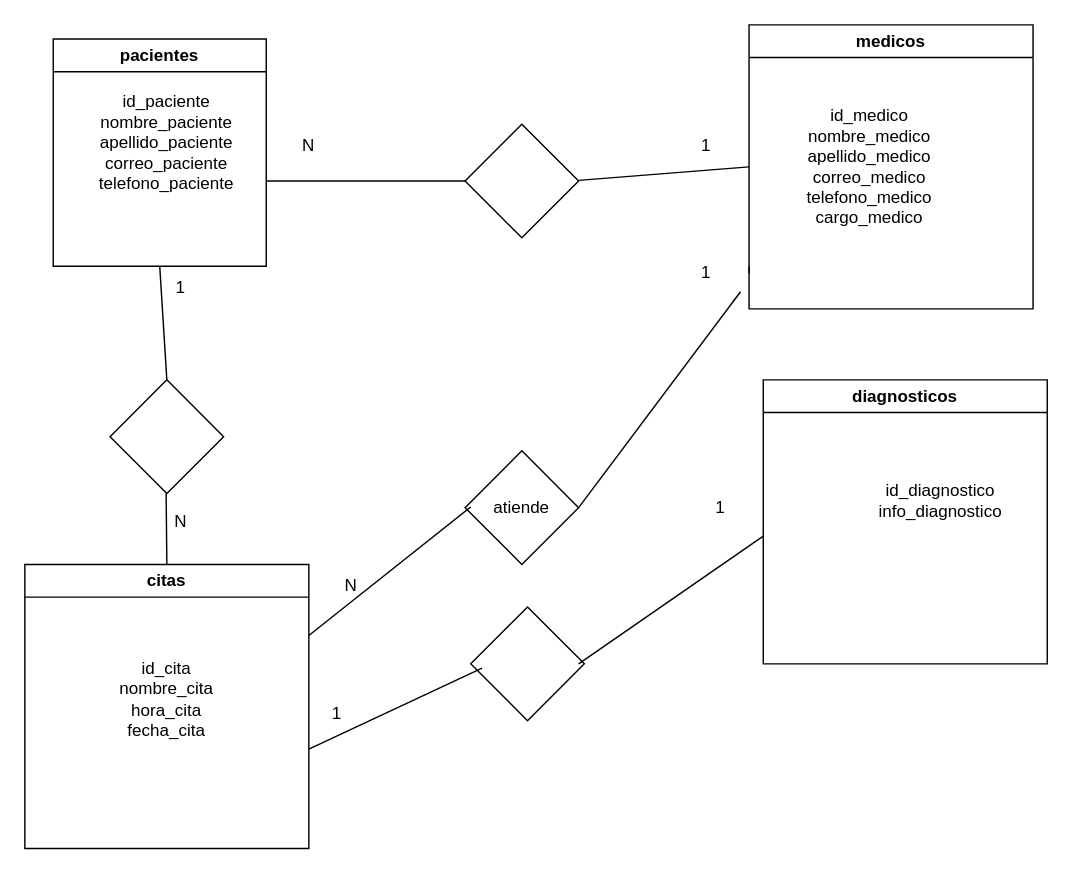
This 1072x873 diagram has some shape labels left out. The centre of each missing label's shape, as x and y in pixels:
agenda: the point at 166,435
asigna: the point at 521,180
genera: the point at 526,663
